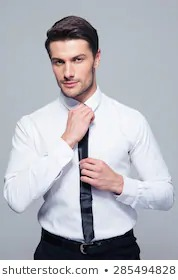F_belt: (36, 229, 138, 243)
F_shirt: (1, 87, 178, 238)
F_tie: (77, 94, 93, 245)
